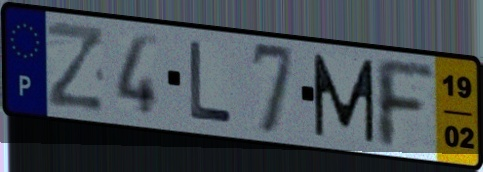4: (112, 30, 163, 119)
7: (248, 38, 296, 139)
F: (370, 54, 438, 152)
L: (188, 38, 235, 129)
M: (310, 50, 378, 145)
Z: (44, 18, 107, 114)
